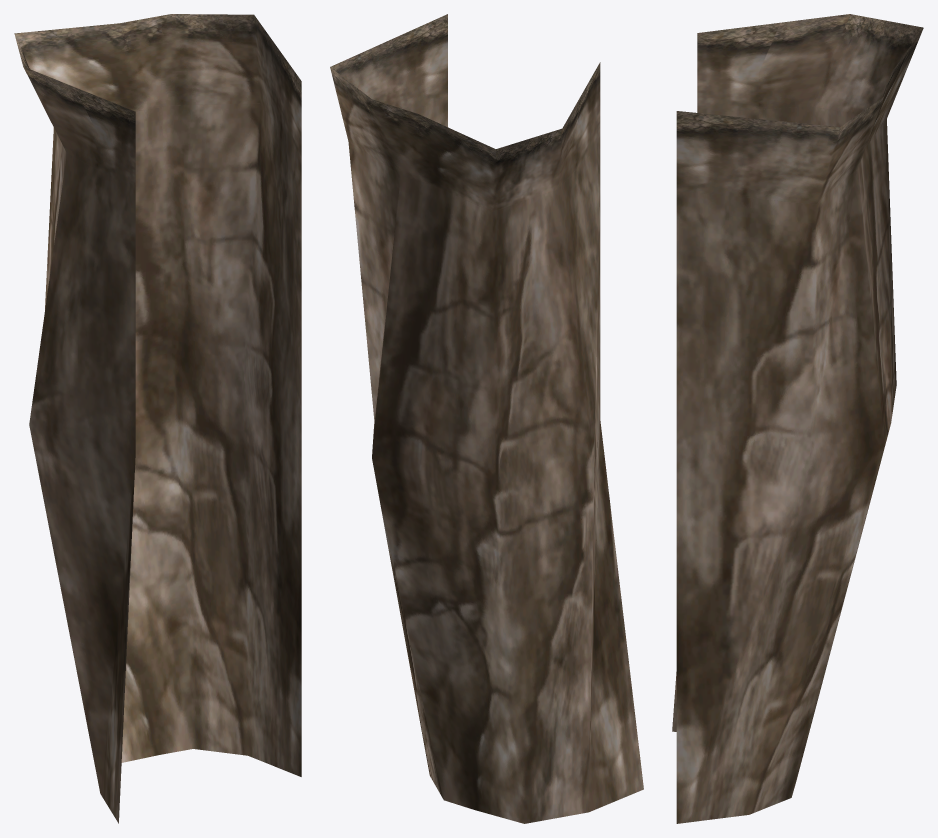
File: OVERHILL_A_01_LINE30.fbx
The picture shows the model from 3 angles, left to right: view 1: azimuth 30°, elevation 25°; view 2: azimuth 150°, elevation 25°; view 3: azimuth 270°, elevation 25°; orthographic projection. The views are drawn at different scales.
Visible parts, largest first — view 1: OVERHILL_A_01_LINE30; view 2: OVERHILL_A_01_LINE30; view 3: OVERHILL_A_01_LINE30.
Boxes of the visible parts, <box> form: OVERHILL_A_01_LINE30: <box>14,14,301,823</box>; OVERHILL_A_01_LINE30: <box>330,14,643,823</box>; OVERHILL_A_01_LINE30: <box>672,14,923,823</box>.
Bounding box in the file's own units: 29872 × 83400 × 26680.
Materials: 2 (2 with a texture image).
